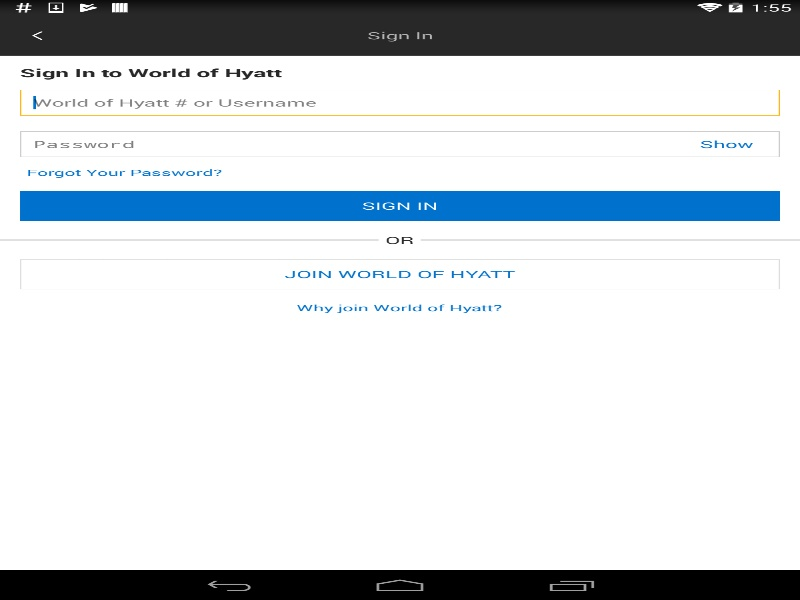Button: (20, 190, 780, 220), (20, 259, 780, 289), (0, 15, 74, 55)
Input: (20, 89, 780, 115), (20, 131, 700, 157)
